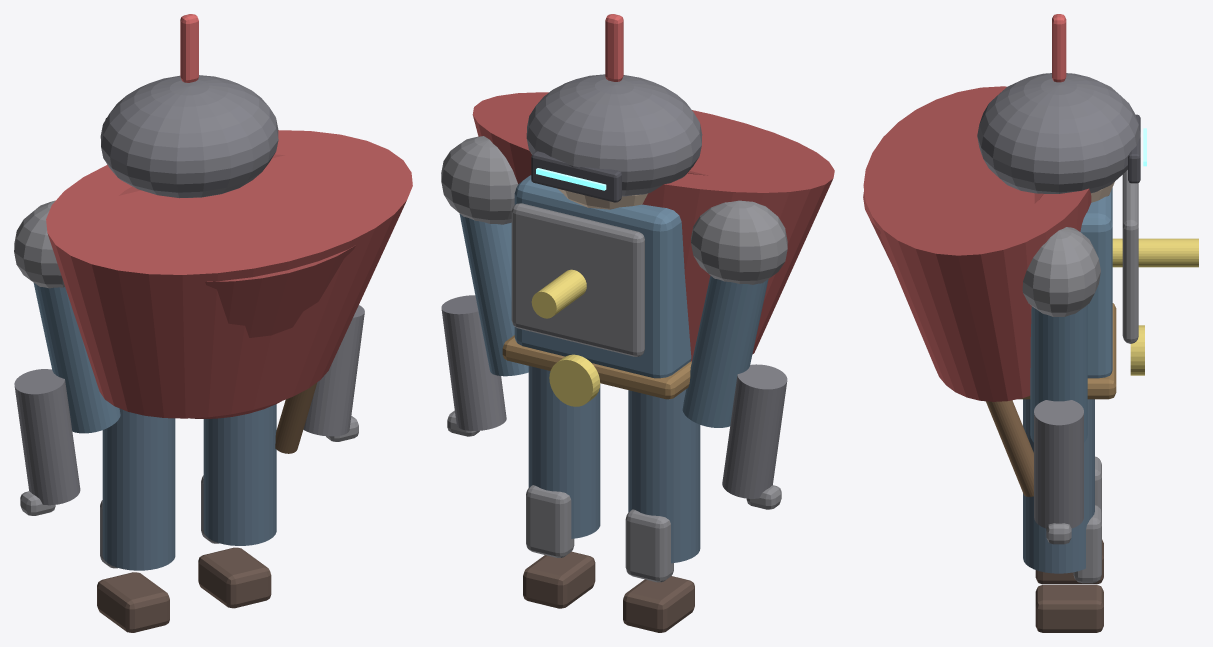
Rendered from player.glb.
3 renders of one model, left to right at view 1: azimuth 30°, elevation 25°; view 2: azimuth 150°, elevation 25°; view 3: azimuth 270°, elevation 25°, orthographic.
Parts seen in each view (by area): view 1: Player; view 2: Player; view 3: Player.
Part boxes in pixels (x1=…): Player: x1=14, y1=14, x2=412, y2=632; Player: x1=441, y1=14, x2=834, y2=632; Player: x1=863, y1=14, x2=1198, y2=632.
Size of the model in its own units: 1.1 by 1.8 by 0.9362.
